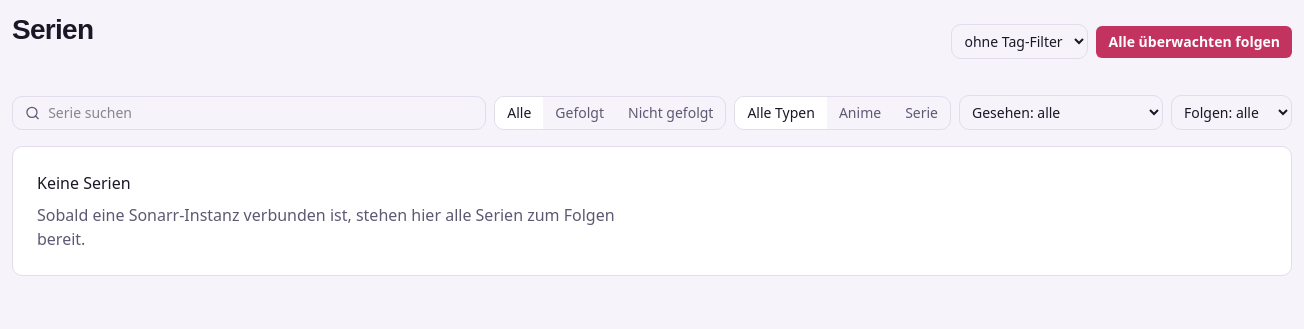
Test: follow all with a Sonarr tag
Step 1. Select "anime" in the dropdown named "Sonarr-Tag" → (1020, 42), box x1=952 y1=24 x2=1088 y2=59
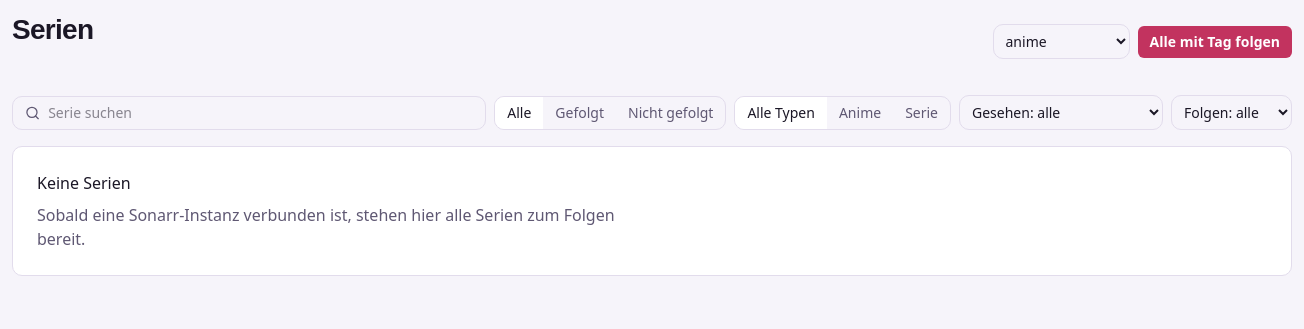
Step 2. Click the button "Alle mit Tag folgen" → (1215, 42), box x1=1138 y1=26 x2=1292 y2=58
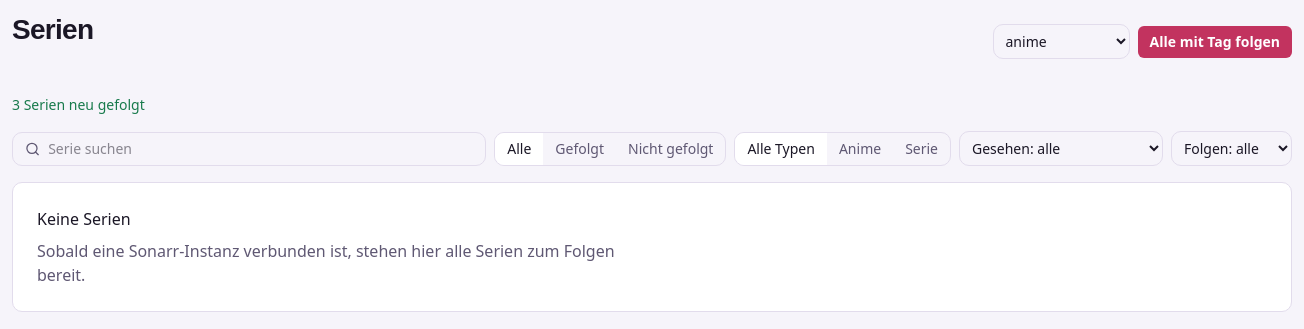
Expected: the message reads "3 Serien neu gefolgt", x1=12 y1=95 x2=145 y2=114
